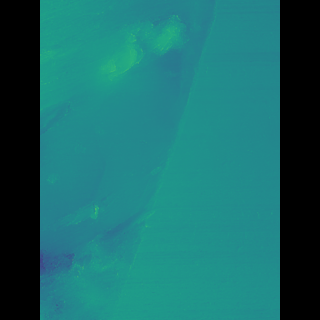Loch: (72, 9, 183, 310)
